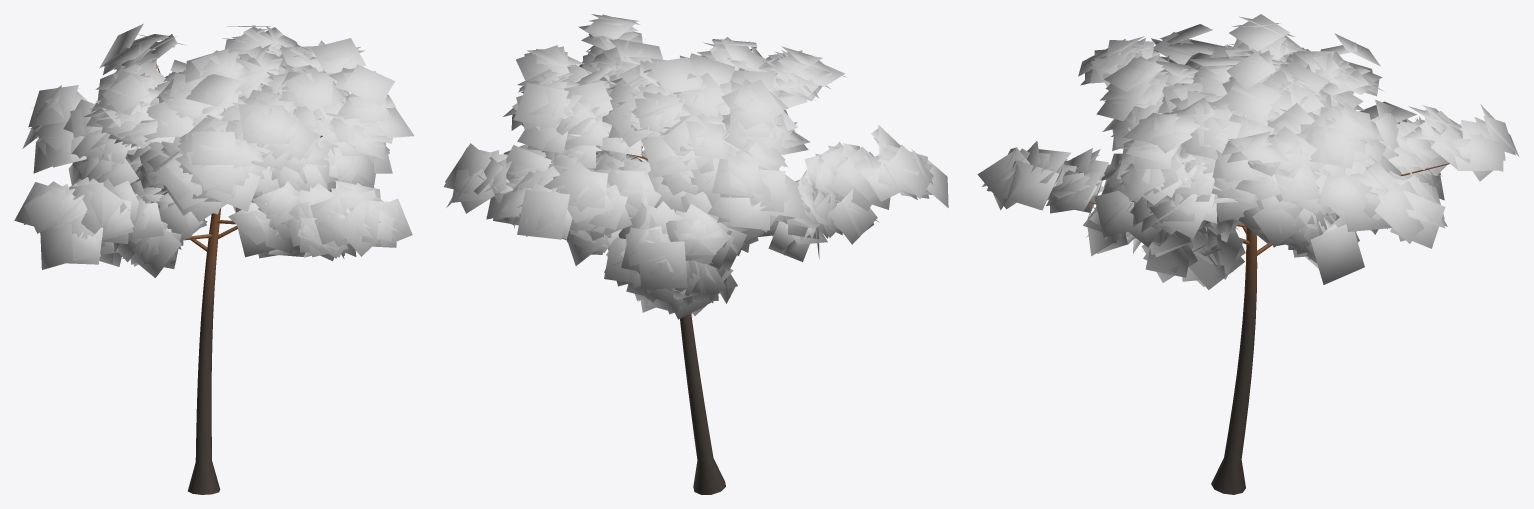
3 renders of one model, left to right at view 1: azimuth 30°, elevation 25°; view 2: azimuth 150°, elevation 25°; view 3: azimuth 270°, elevation 25°, orthographic. The views are drawn at different scales.
Visible parts, largest first — view 1: crown, trunk; view 2: crown, trunk; view 3: crown, trunk.
Part boxes in pixels (<box>): crown: <box>14,23,414,277</box>; trunk: <box>135,64,322,494</box>; crown: <box>443,14,948,319</box>; trunk: <box>629,147,725,494</box>; crown: <box>977,14,1518,289</box>; trunk: <box>1089,163,1449,494</box>.
Bounding box in the file's own units: 17.73 × 19.04 × 20.96.
